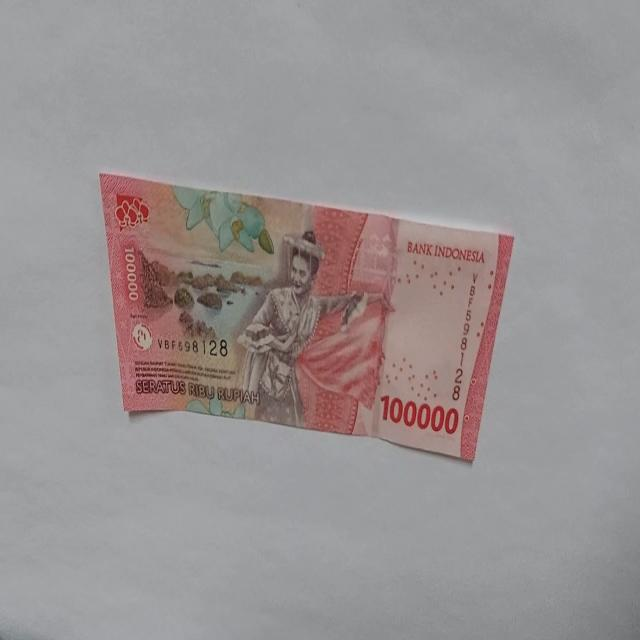seratus ribu rupiah: (98, 170, 516, 464), (234, 228, 368, 426)
